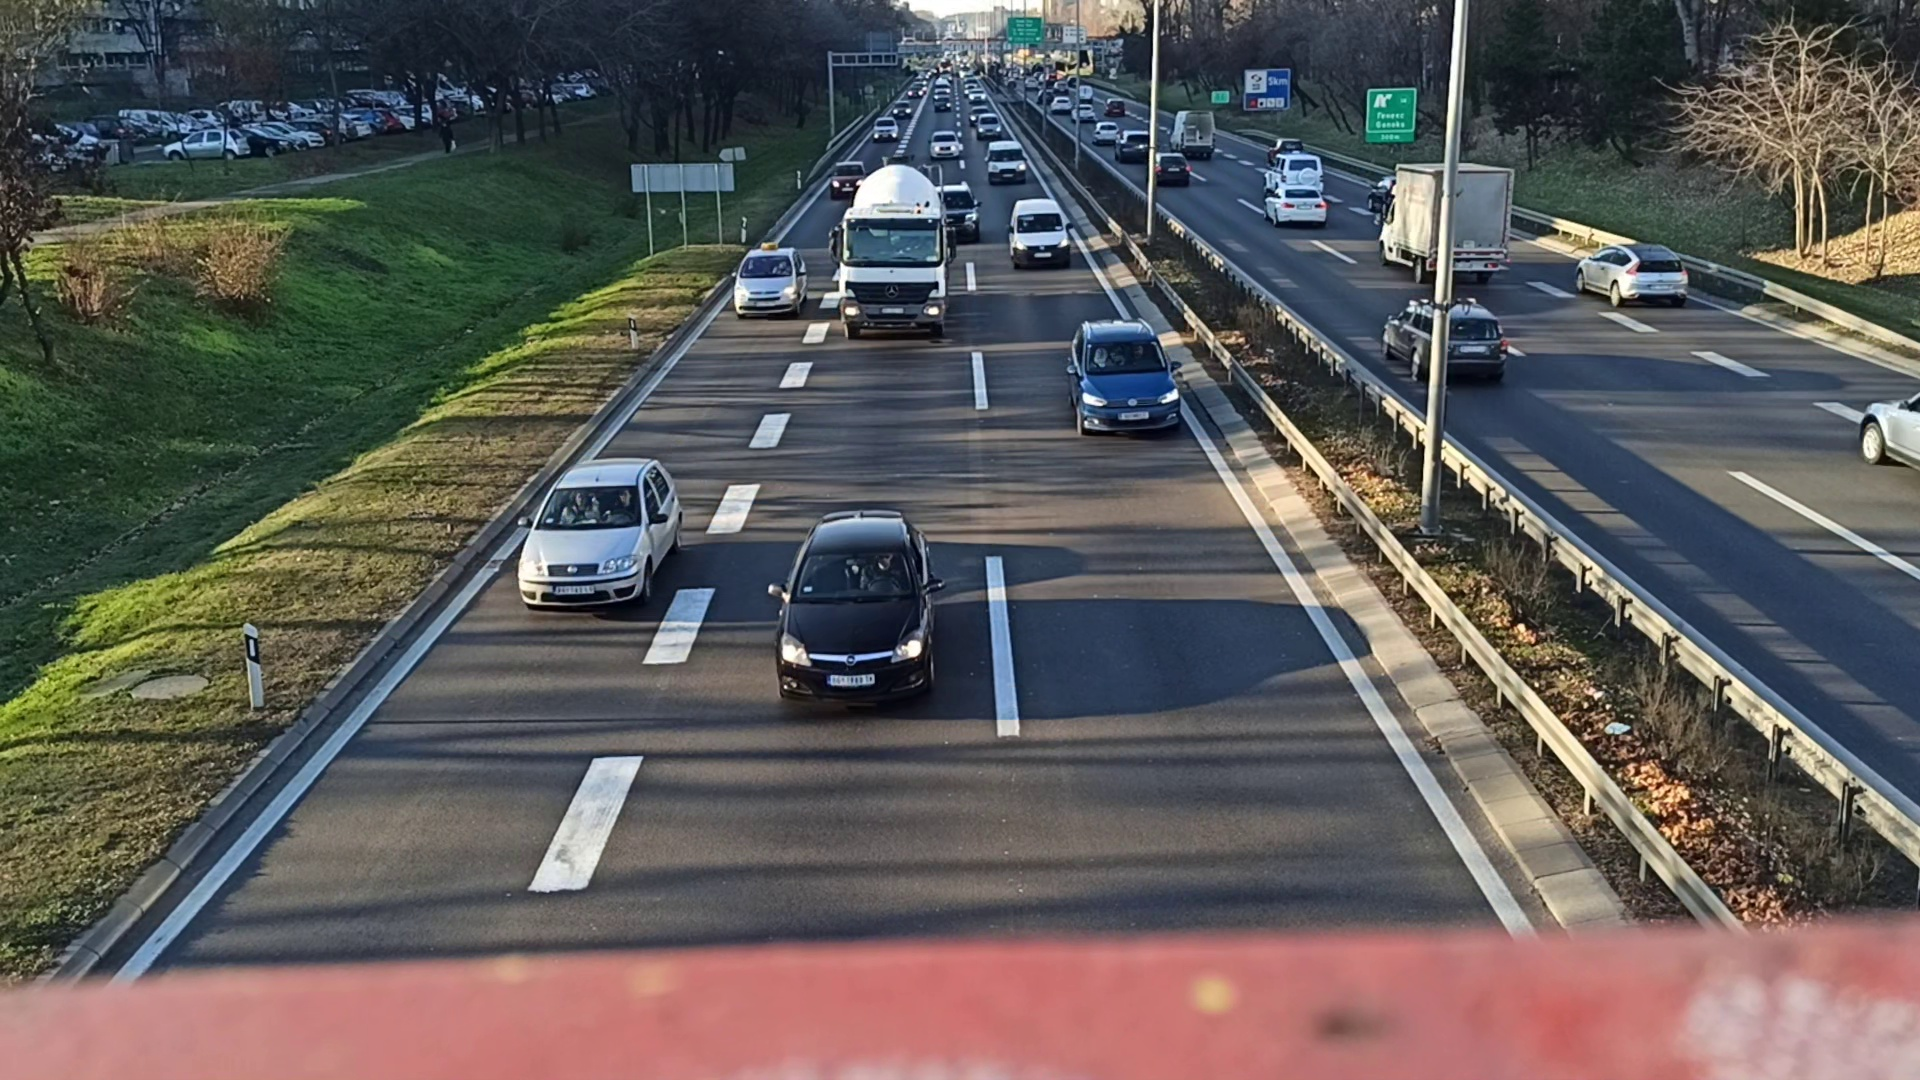car: (777, 512, 938, 709), (516, 455, 680, 624), (1065, 319, 1185, 440), (1379, 294, 1513, 378), (1575, 245, 1685, 307), (735, 245, 808, 322), (1262, 150, 1325, 193), (1263, 185, 1328, 225), (938, 179, 978, 237), (985, 136, 1026, 185), (1143, 152, 1185, 189), (829, 158, 866, 194), (928, 127, 963, 162), (872, 117, 899, 144)
truck: (836, 166, 949, 339), (1375, 160, 1511, 277)
van: (1007, 199, 1069, 269)
